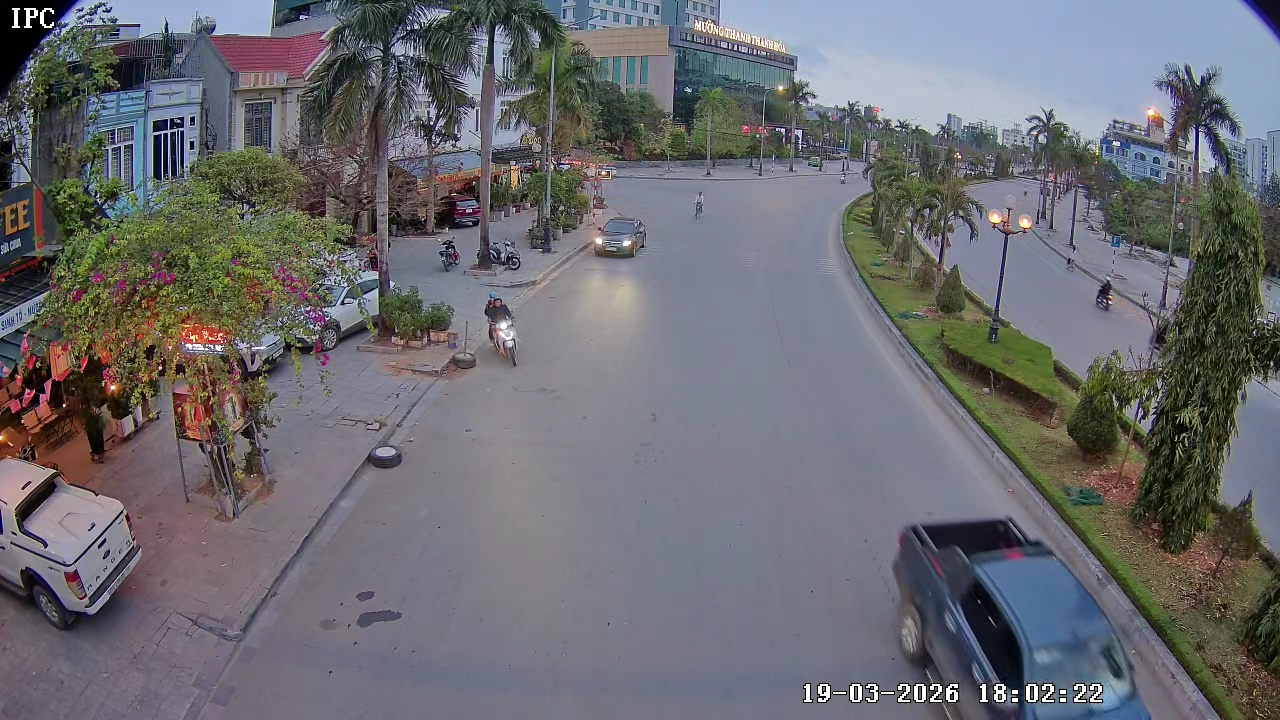car: (887, 513, 1154, 719), (0, 478, 142, 629), (593, 211, 648, 258)
motorbike: (482, 290, 521, 368), (1094, 275, 1115, 313), (691, 190, 707, 219)
